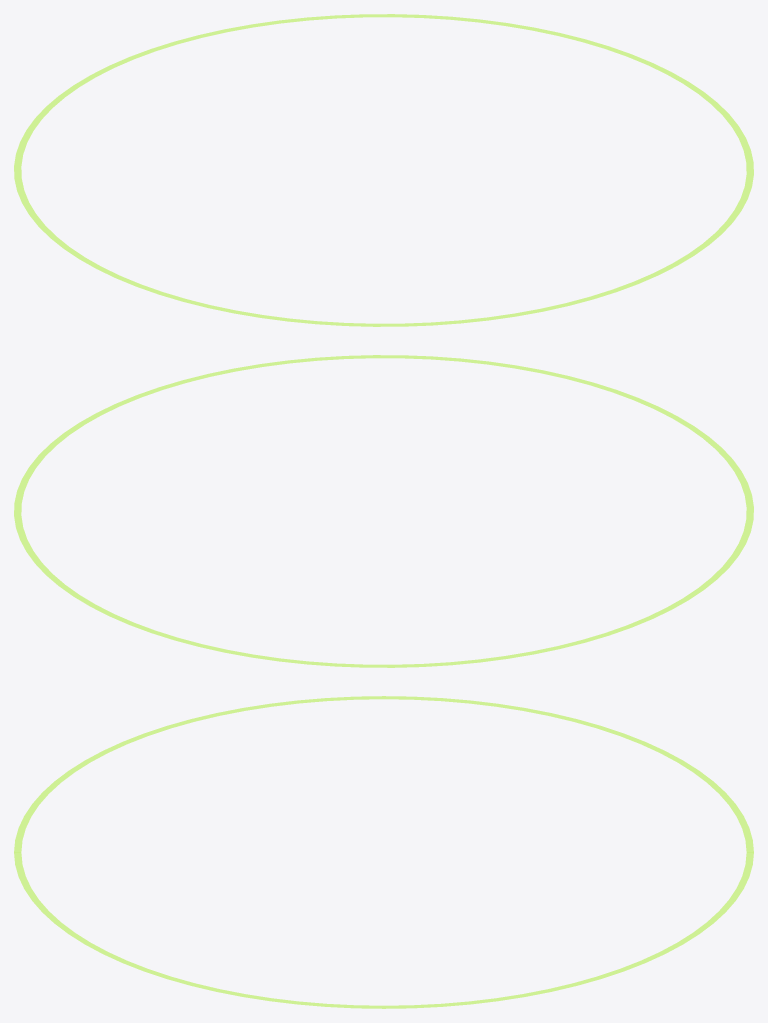
File: sonar-ring.glb
3 views of the same model, one above another, from view 1: azimuth 30°, elevation 25°; view 2: azimuth 150°, elevation 25°; view 3: azimuth 270°, elevation 25° (orthographic).
Visible parts, largest first — view 1: SonarRing; view 2: SonarRing; view 3: SonarRing.
Boxes of the visible parts, <box> form: SonarRing: <box>14,14,753,326</box>; SonarRing: <box>14,355,753,667</box>; SonarRing: <box>14,696,753,1008</box>.
Bounding box in the file's own units: 2 × 4.44e-16 × 2.
